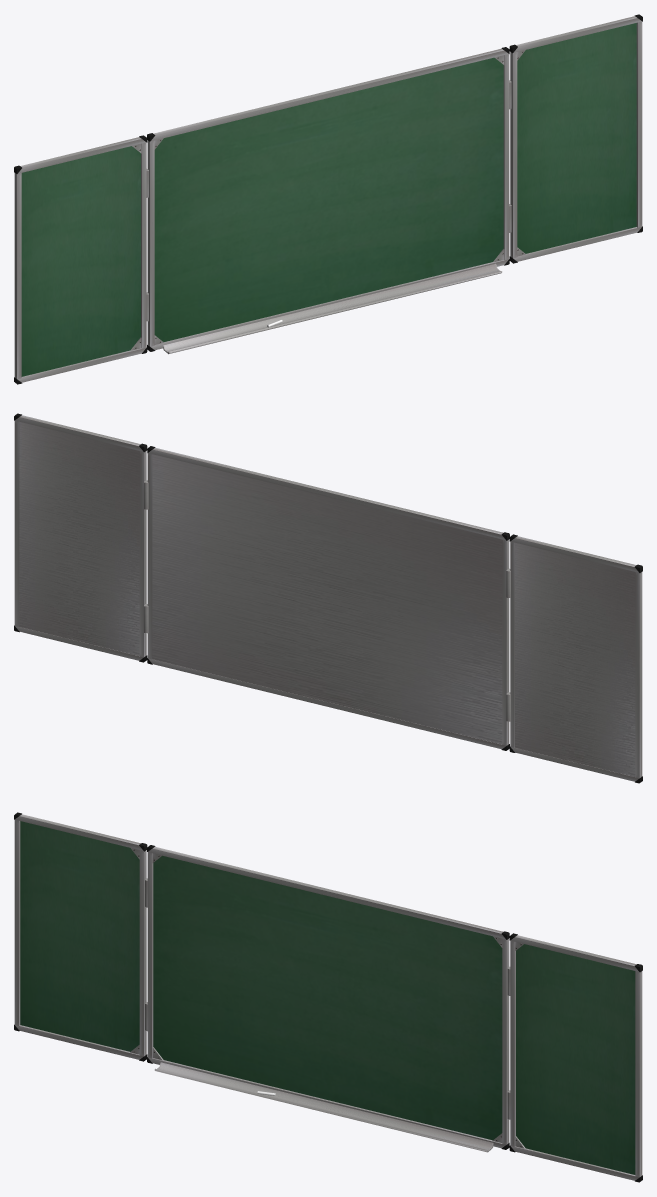
File: school_board.glb
3 renders of one model, top to bottom at view 1: azimuth 30°, elevation 25°; view 2: azimuth 150°, elevation 25°; view 3: azimuth 330°, elevation 25°, orthographic.
Visible parts, largest first — view 1: Cylinder, Cylinder_2, Cylinder_1; view 2: Cylinder, Cylinder_2, Cylinder_1; view 3: Cylinder, Cylinder_1, Cylinder_2.
Boxes of the visible parts, left/top/right/bottom form: Cylinder: left=146, top=47, right=511, bottom=354; Cylinder_2: left=14, top=135, right=147, bottom=384; Cylinder_1: left=509, top=14, right=642, bottom=263; Cylinder: left=144, top=446, right=510, bottom=750; Cylinder_2: left=509, top=534, right=642, bottom=783; Cylinder_1: left=14, top=413, right=147, bottom=662; Cylinder: left=145, top=845, right=510, bottom=1152; Cylinder_1: left=509, top=933, right=642, bottom=1182; Cylinder_2: left=14, top=812, right=147, bottom=1061.
Bounding box in the file's own units: 7.02 × 2.33 × 0.1965.
6 materials, 4 textured.
